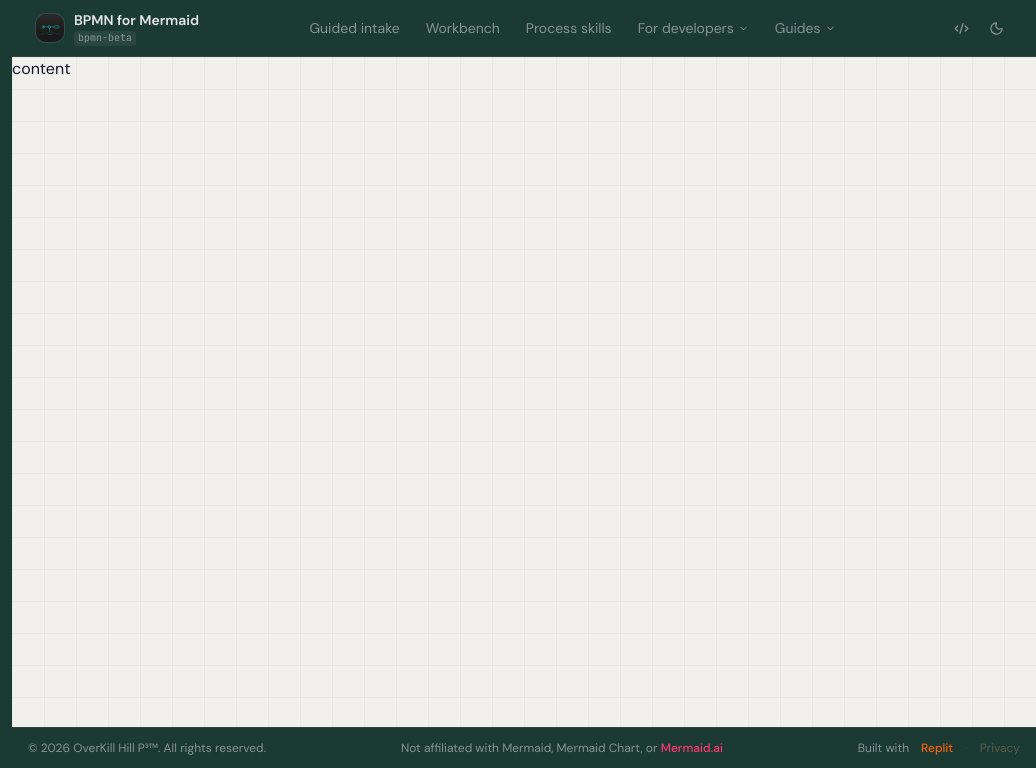
Scenario: NavDropdown — keyboard navigation › Learn ▾ dropdown › Escape closes the Learn panel and returns focus to its trigger
Click the button "Guides" at (805, 28), box [763,12,848,44]
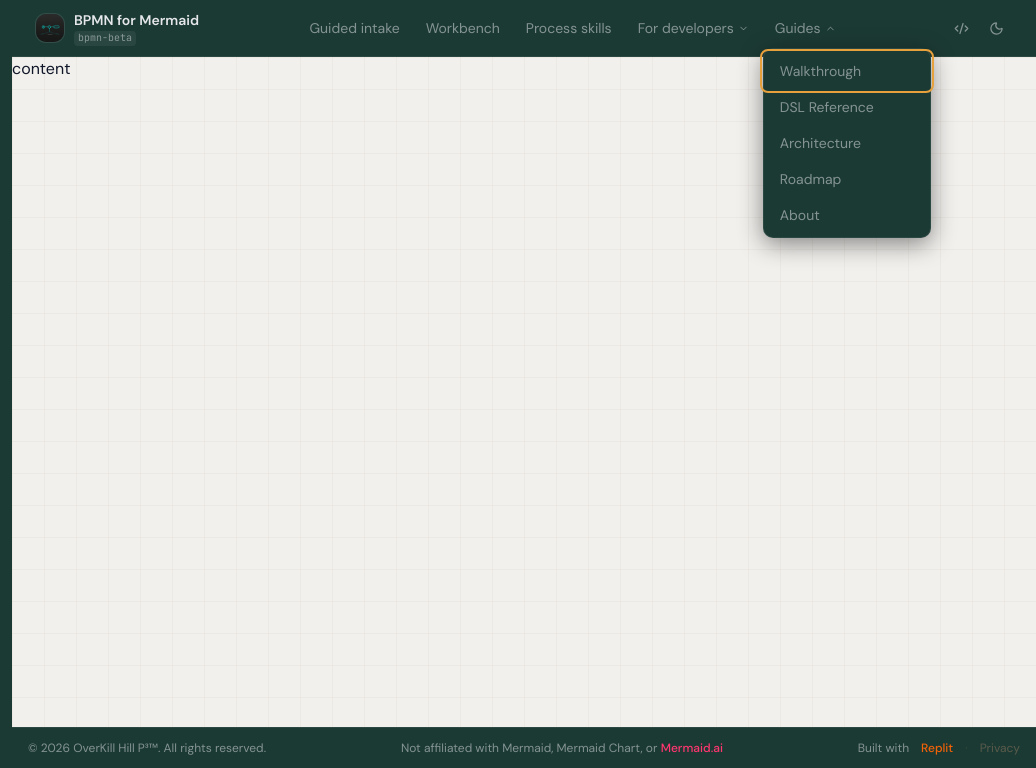
Press Escape in the menu item "Walkthrough", box [780,62,861,80]
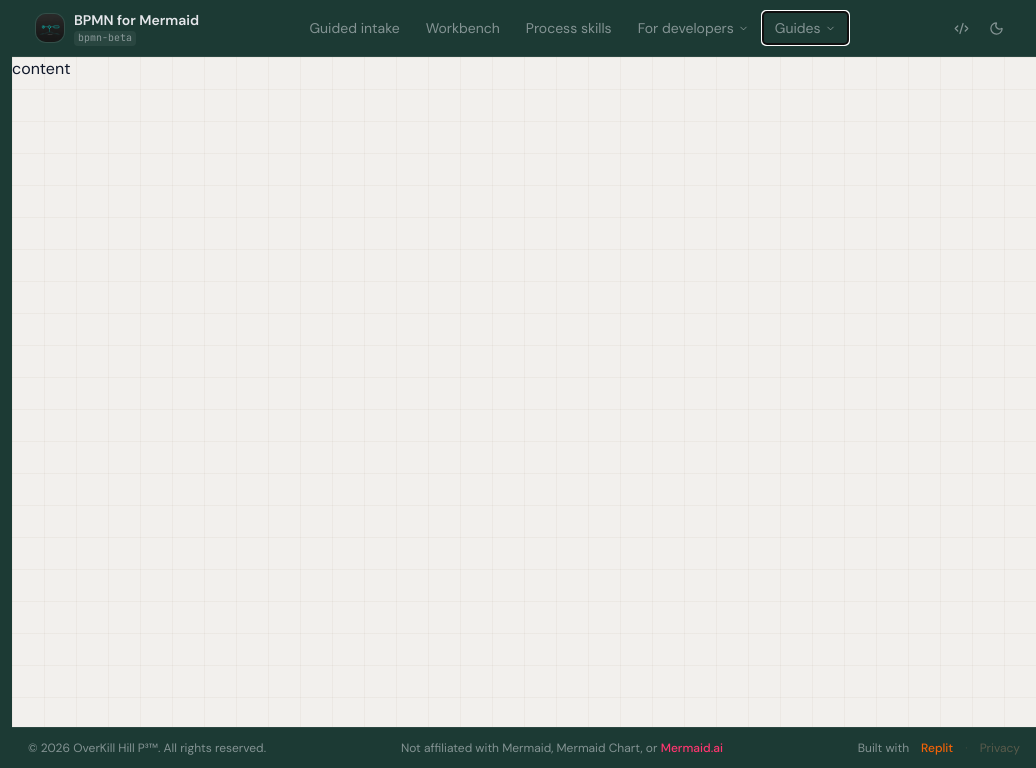
Expected: the menu is gone
